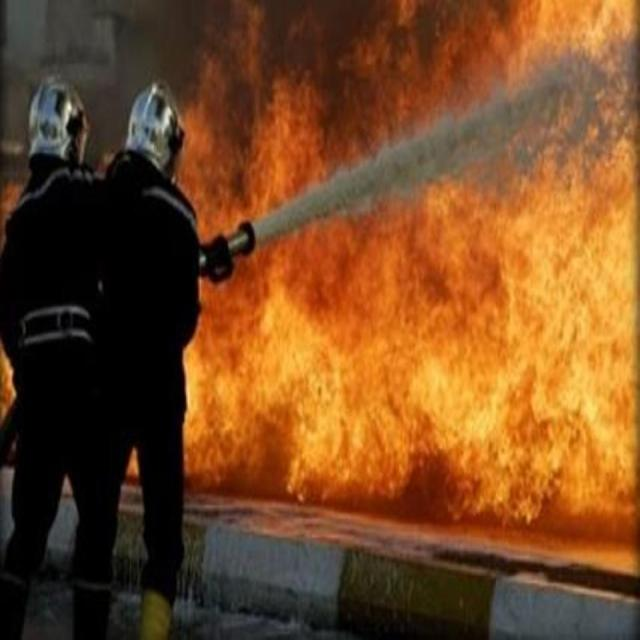Fire: (191, 0, 636, 493)
